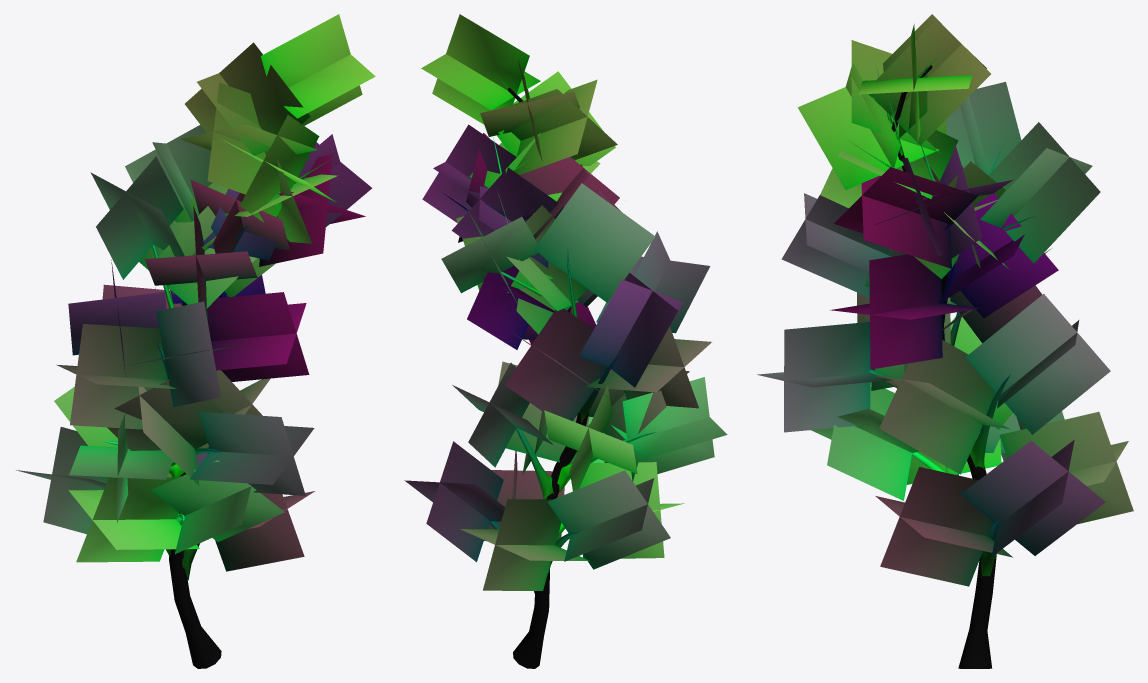
Rendered from M_P5_Tree_6.fbx.
The picture shows the model from 3 angles, left to right: view 1: azimuth 30°, elevation 25°; view 2: azimuth 150°, elevation 25°; view 3: azimuth 270°, elevation 25°; orthographic projection. The views are drawn at different scales.
Parts seen in each view (by area): view 1: Tree_6; view 2: Tree_6; view 3: Tree_6.
Boxes of the visible parts, box(x1,y1,x2,y2) form: Tree_6: box(16, 14, 375, 668); Tree_6: box(404, 14, 727, 668); Tree_6: box(757, 14, 1133, 668).
Size of the model in its own units: 298 by 605 by 300.
